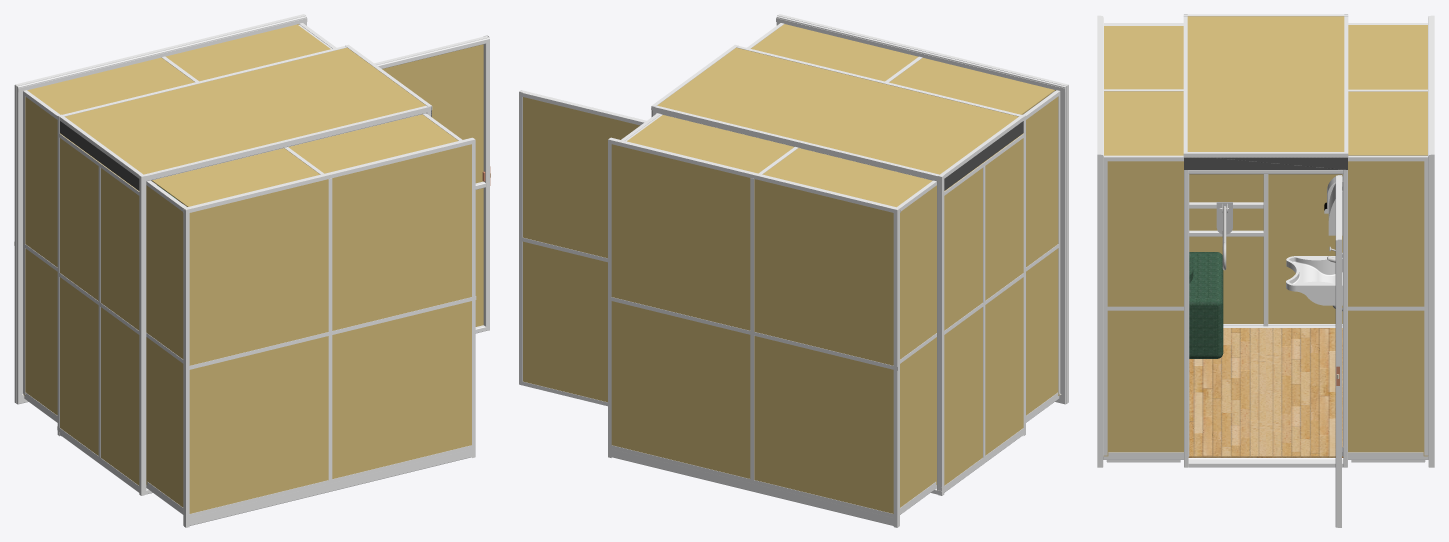
Rendered from BAÑO_QUIMICO_PORTATIL_T.glb.
3 views of the same model, side by side, from view 1: azimuth 30°, elevation 25°; view 2: azimuth 150°, elevation 25°; view 3: azimuth 270°, elevation 25° (orthographic).
Visible parts, largest first — view 1: BAÑO QUIMICO PORTATIL T.001; view 2: BAÑO QUIMICO PORTATIL T.001; view 3: BAÑO QUIMICO PORTATIL T.001.
Part boxes in pixels (x1,y1,x2,y2): BAÑO QUIMICO PORTATIL T.001: (14, 14, 490, 527); BAÑO QUIMICO PORTATIL T.001: (519, 14, 1068, 527); BAÑO QUIMICO PORTATIL T.001: (1097, 14, 1434, 527).
Size of the model in its own units: 2.96 by 2.11 by 2.05.
19 materials, 3 textured.
